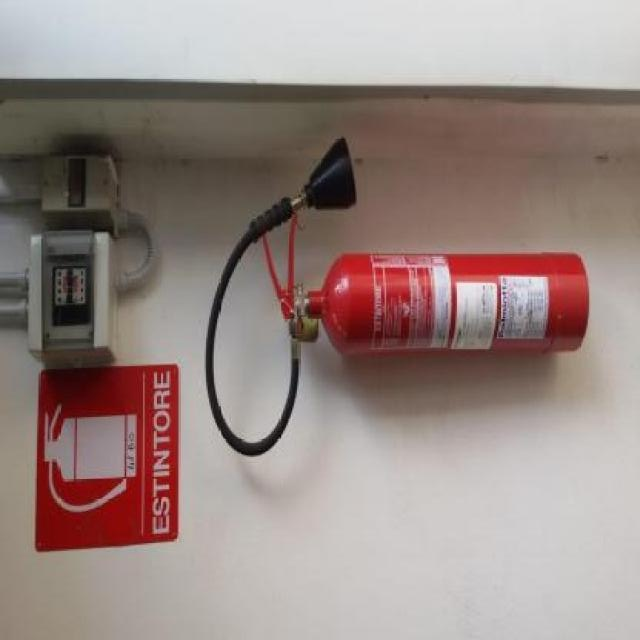fire extinguisher: (203, 135, 589, 456)
